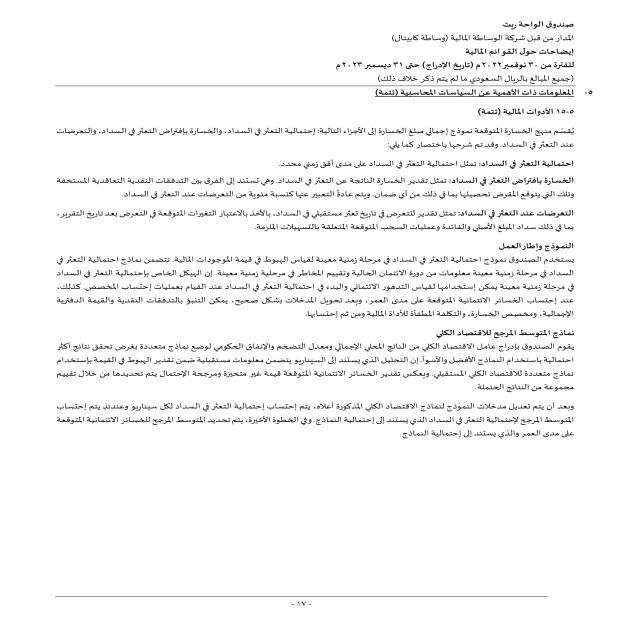notes: (456, 45, 579, 58)
text: (15, 102, 582, 462)
